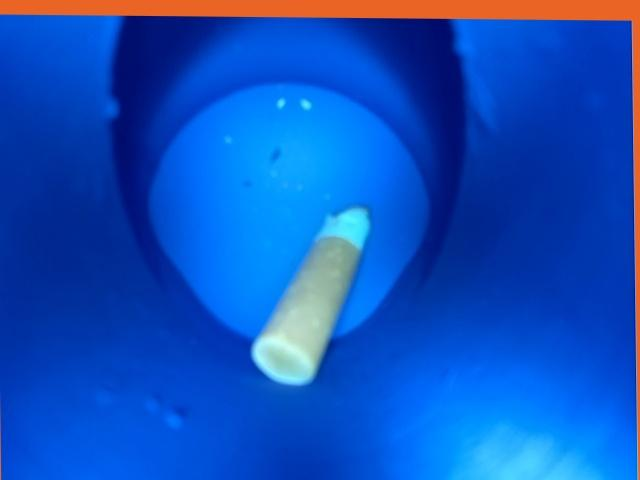megot: (240, 201, 377, 391)
